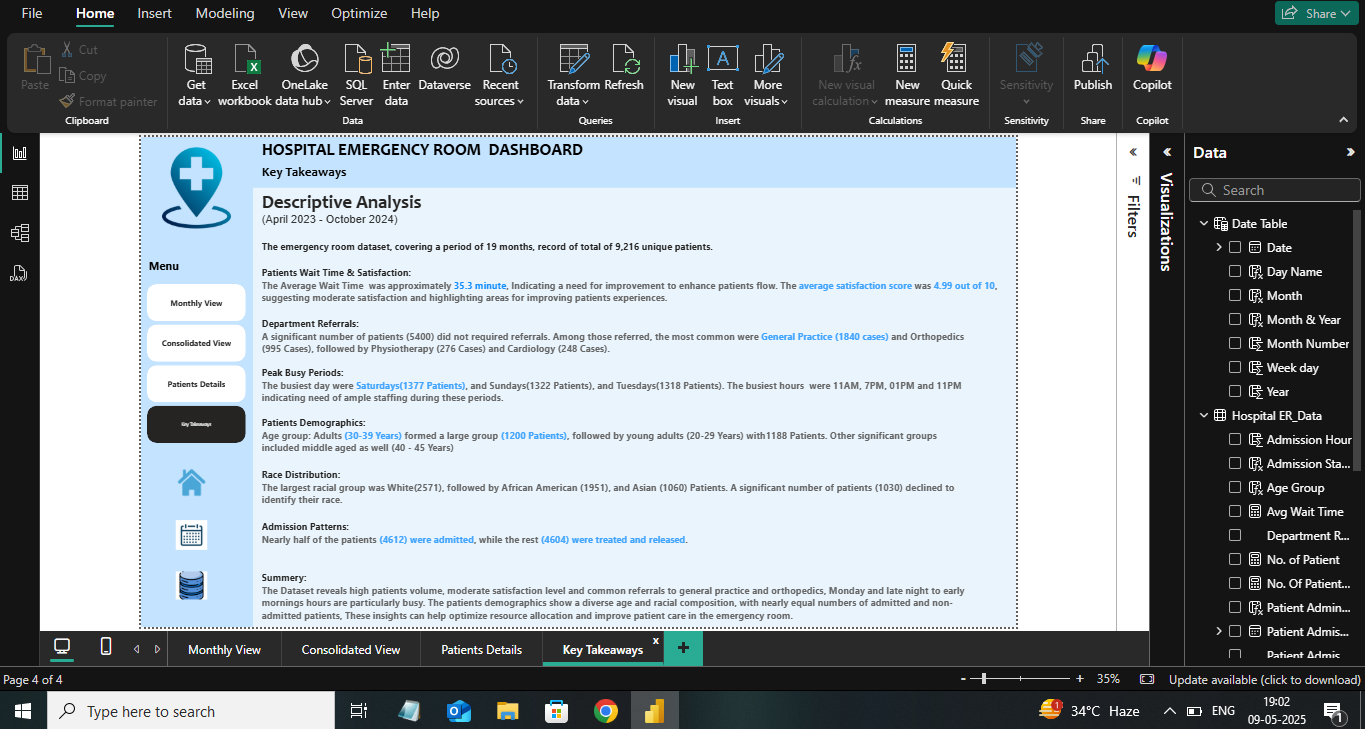

This screenshot's page, from the dashboard's own definition file:
{"tool":"powerbi","page":{"name":"Key Takeaways","canvas":[2500,1400],"ordinal":3},"visuals":[{"type":"shape","box":[0,0,320,1400],"z":0},{"type":"shape","box":[320,0,2180,145],"z":1000},{"type":"textbox","box":[340,0,942.9,71.4],"z":3000},{"type":"textbox","box":[340,71.4,260,74.3],"z":4000},{"type":"image","box":[37.1,22.9,242.9,245.7],"z":5000},{"type":"textbox","box":[340,145.7,517.1,122.9],"z":5001},{"type":"textbox","box":[340,288.6,1654.3,51.4],"z":5002},{"type":"textbox","box":[340,362.9,2160,122.9],"z":5003},{"type":"textbox","box":[340,508.6,2048.6,120],"z":5004},{"type":"textbox","box":[340,648.6,2048.6,120],"z":5005},{"type":"textbox","box":[340,791.4,2048.6,120],"z":5006},{"type":"textbox","box":[340,940,2048.6,128.6],"z":5007},{"type":"textbox","box":[340,1088.6,2048.6,120],"z":5008},{"type":"textbox","box":[340,1234.3,2048.6,165.7],"z":5009},{"type":"pageNavigator","box":[17.1,420,282.9,454.3],"z":5010},{"type":"textbox","box":[17.1,340,120,57.1],"z":5011},{"type":"image","box":[77.1,925.7,134.3,122.9],"z":5012},{"type":"image","box":[94.3,1088.6,100,97.1],"z":5013},{"type":"image","box":[94.3,1234.3,100,94.3],"z":5014}]}

Visuals, with their boxes on the page's 2500x1400 design canvas (x1, y1, x2, y2). These are canvas units, not pixel positions in the 1365x729 screenshot, which may show the page scaled, cropped or inside an application window:
shape: crop(0, 0, 320, 1400)
shape: crop(320, 0, 2500, 145)
textbox: crop(340, 0, 1283, 71)
textbox: crop(340, 71, 600, 146)
image: crop(37, 23, 280, 269)
textbox: crop(340, 146, 857, 269)
textbox: crop(340, 289, 1994, 340)
textbox: crop(340, 363, 2500, 486)
textbox: crop(340, 509, 2389, 629)
textbox: crop(340, 649, 2389, 769)
textbox: crop(340, 791, 2389, 911)
textbox: crop(340, 940, 2389, 1069)
textbox: crop(340, 1089, 2389, 1209)
textbox: crop(340, 1234, 2389, 1400)
pageNavigator: crop(17, 420, 300, 874)
textbox: crop(17, 340, 137, 397)
image: crop(77, 926, 211, 1049)
image: crop(94, 1089, 194, 1186)
image: crop(94, 1234, 194, 1329)
